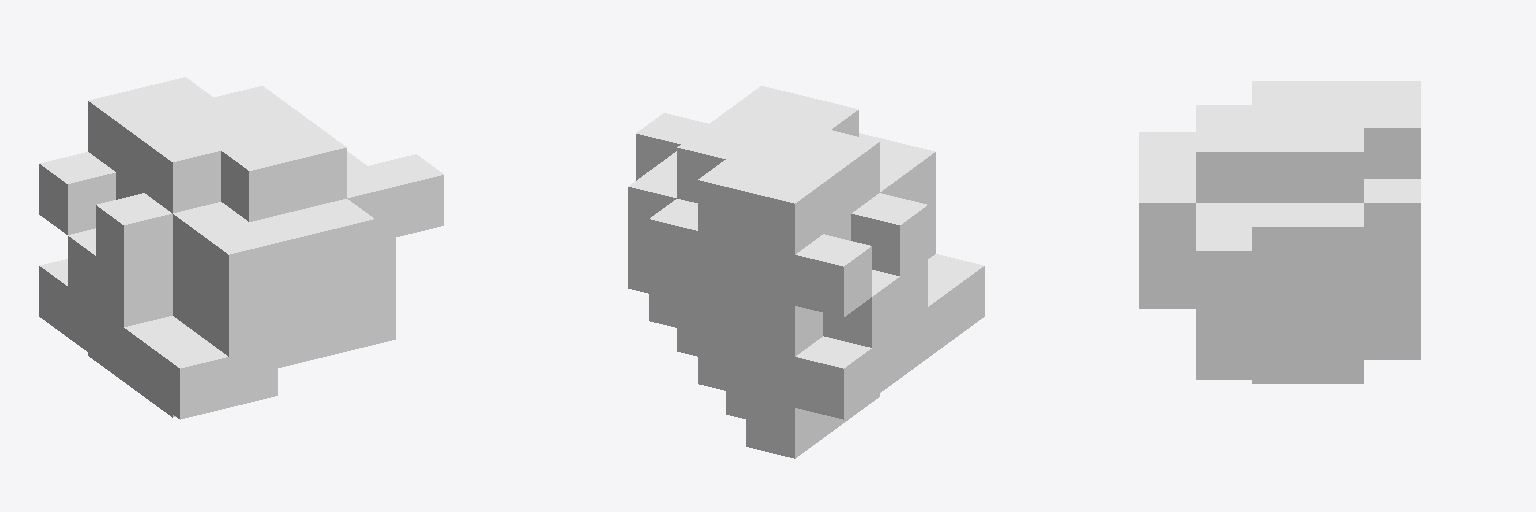
The model's file is particles-0.obj.
The picture shows the model from 3 angles: view 1: azimuth 30°, elevation 25°; view 2: azimuth 150°, elevation 25°; view 3: azimuth 270°, elevation 25°; orthographic projection.
Parts seen in each view (by area): view 1: object 1; view 2: object 1; view 3: object 1.
Boxes of the visible parts, <box> form: object 1: <box>39,77,443,419</box>; object 1: <box>628,86,984,458</box>; object 1: <box>1139,81,1420,383</box>.
Size of the model in its own units: 1.2 by 1 by 1.